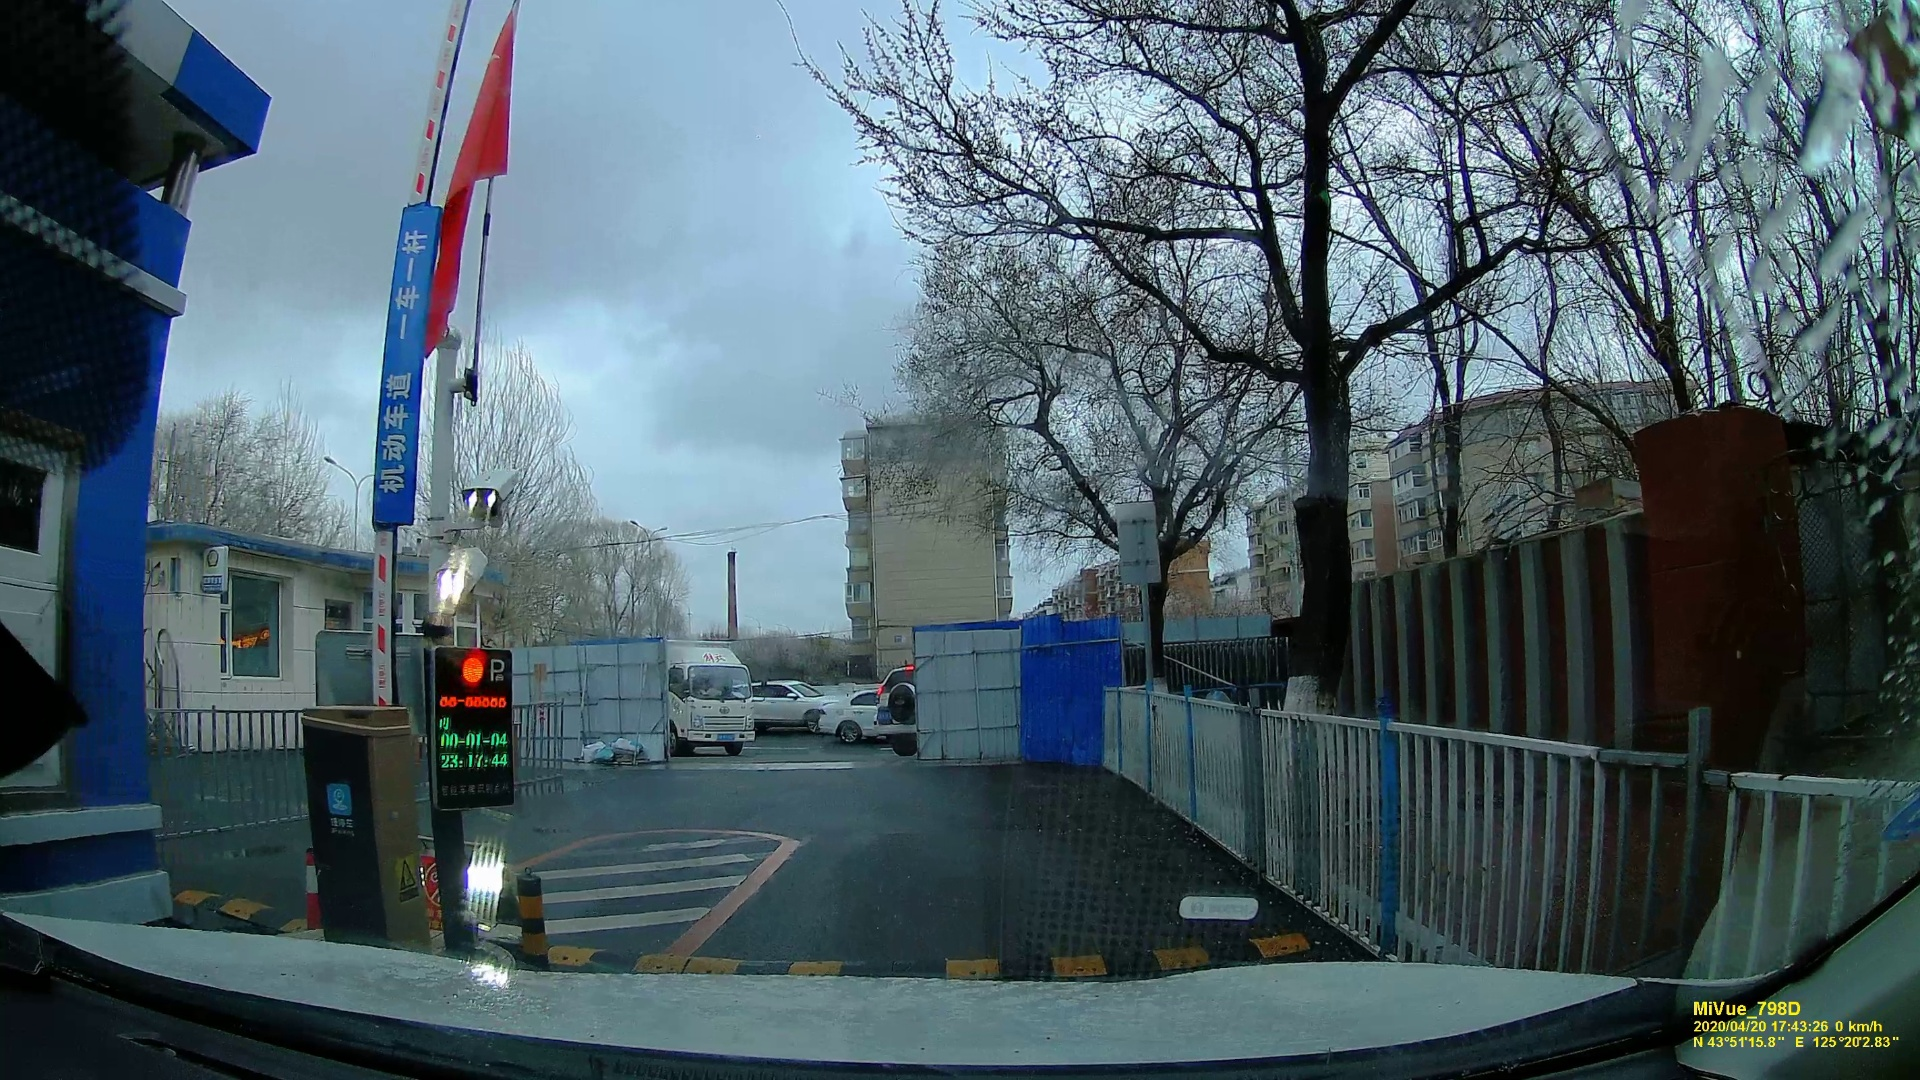truck: (655, 641, 752, 756)
vehicle: (748, 676, 822, 732), (822, 688, 876, 742)
